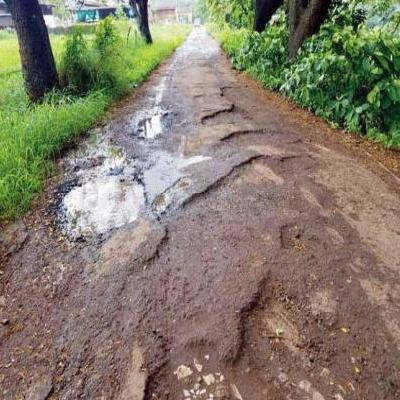pothole: (46, 159, 142, 251), (221, 127, 302, 151)
